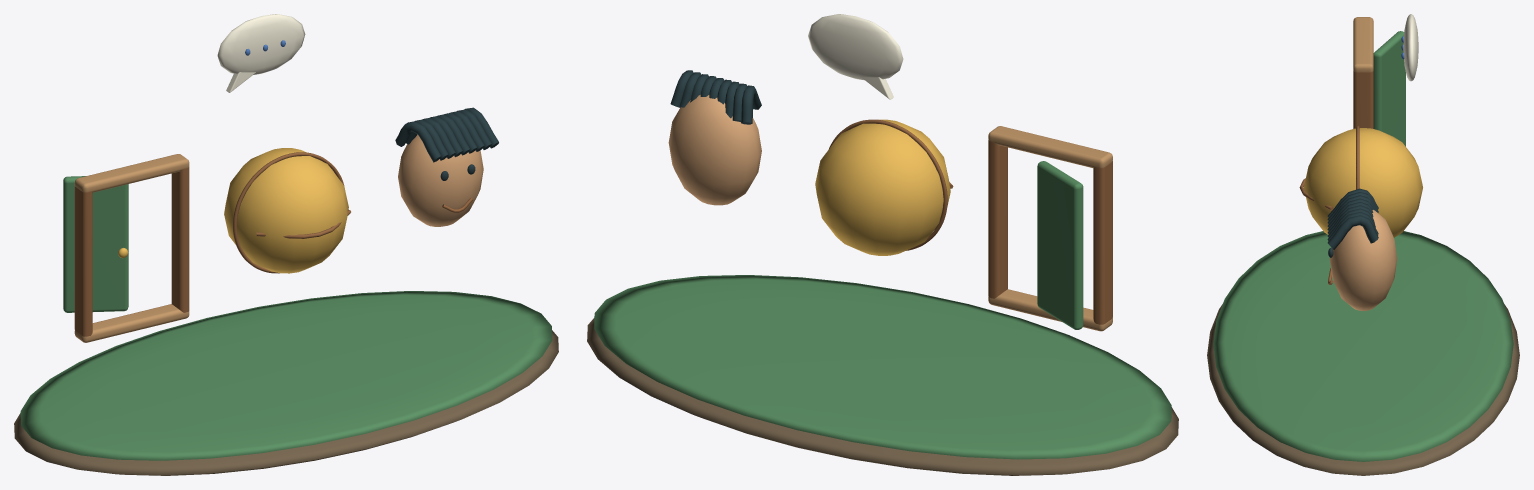
File: complete-third-open-play-laughter.glb
3 views of the same model, side by side, from view 1: azimuth 30°, elevation 25°; view 2: azimuth 150°, elevation 25°; view 3: azimuth 270°, elevation 25° (orthographic). The views are drawn at different scales.
Visible parts, largest first — view 1: complete-third-open-play-laughter_surface_01, complete-third-open-play-laughter_surface_04, complete-third-open-play-laughter_surface_00, complete-third-open-play-laughter_surface_02, complete-third-open-play-laughter_surface_05, complete-third-open-play-laughter_surface_07, complete-third-open-play-laughter_surface_03, complete-third-open-play-laughter_surface_06; view 2: complete-third-open-play-laughter_surface_01, complete-third-open-play-laughter_surface_04, complete-third-open-play-laughter_surface_00, complete-third-open-play-laughter_surface_05, complete-third-open-play-laughter_surface_02, complete-third-open-play-laughter_surface_07, complete-third-open-play-laughter_surface_03, complete-third-open-play-laughter_surface_06; view 3: complete-third-open-play-laughter_surface_01, complete-third-open-play-laughter_surface_04, complete-third-open-play-laughter_surface_00, complete-third-open-play-laughter_surface_05, complete-third-open-play-laughter_surface_06, complete-third-open-play-laughter_surface_02, complete-third-open-play-laughter_surface_03, complete-third-open-play-laughter_surface_07.
Boxes of the visible parts, x1,y1,x2,y2 form: complete-third-open-play-laughter_surface_01: (20,176,552,460); complete-third-open-play-laughter_surface_04: (118,148,348,273); complete-third-open-play-laughter_surface_00: (14,330,558,475); complete-third-open-play-laughter_surface_02: (74,152,472,336); complete-third-open-play-laughter_surface_05: (398,134,483,226); complete-third-open-play-laughter_surface_07: (217,14,305,92); complete-third-open-play-laughter_surface_03: (74,154,189,342); complete-third-open-play-laughter_surface_06: (395,107,498,180); complete-third-open-play-laughter_surface_01: (594,161,1171,459); complete-third-open-play-laughter_surface_04: (815,119,950,255); complete-third-open-play-laughter_surface_00: (587,318,1178,475); complete-third-open-play-laughter_surface_05: (668,94,761,205); complete-third-open-play-laughter_surface_02: (829,119,1112,324); complete-third-open-play-laughter_surface_07: (808,14,903,99); complete-third-open-play-laughter_surface_03: (988,126,1112,331); complete-third-open-play-laughter_surface_06: (670,70,761,124); complete-third-open-play-laughter_surface_01: (1213,31,1513,461); complete-third-open-play-laughter_surface_04: (1304,128,1422,237); complete-third-open-play-laughter_surface_00: (1207,304,1519,475); complete-third-open-play-laughter_surface_05: (1329,210,1397,310); complete-third-open-play-laughter_surface_06: (1327,188,1378,257); complete-third-open-play-laughter_surface_02: (1299,71,1373,284); complete-third-open-play-laughter_surface_03: (1353,17,1373,72); complete-third-open-play-laughter_surface_07: (1403,14,1418,81).
Bounding box in the file's own units: 4.56 × 3.08 × 2.5.
